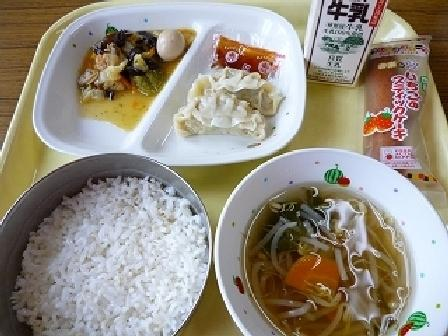Milk: (297, 0, 389, 84)
Rice: (0, 161, 220, 335)
Soups: (218, 158, 447, 335)
pastry: (355, 33, 447, 190)
vareniki: (175, 65, 285, 146)
vegetable based cooked food: (69, 17, 184, 102)
